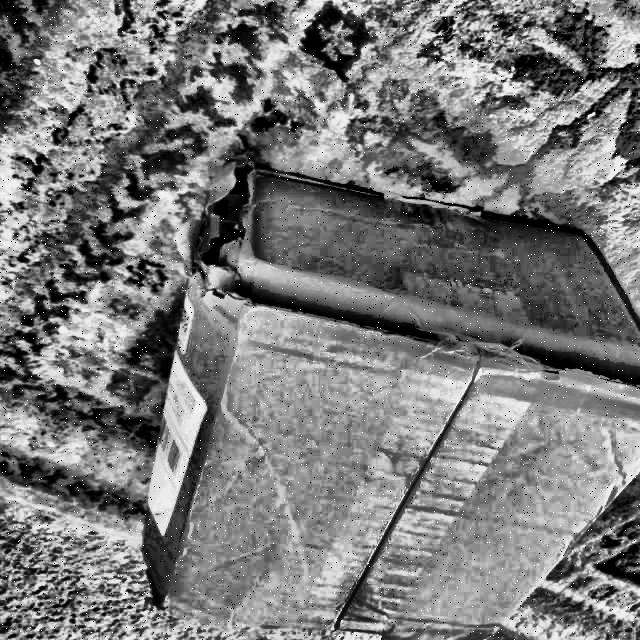box: (132, 160, 640, 631)
hole: (187, 159, 261, 305)
